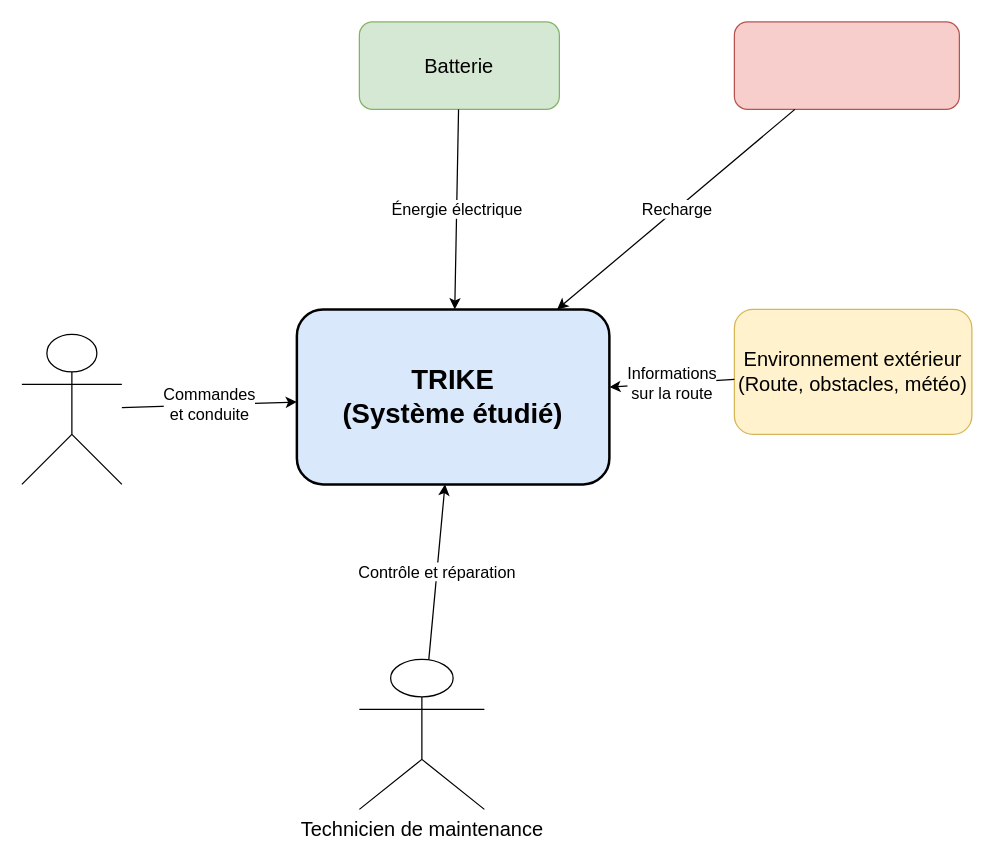
Some shapes in this 994 by 864 pixel diagram are drawn without their labels. Each missing label, with the centre of its shape:
Chargeur électrique: the point at 846,65
Utilisateur: the point at 71,408
